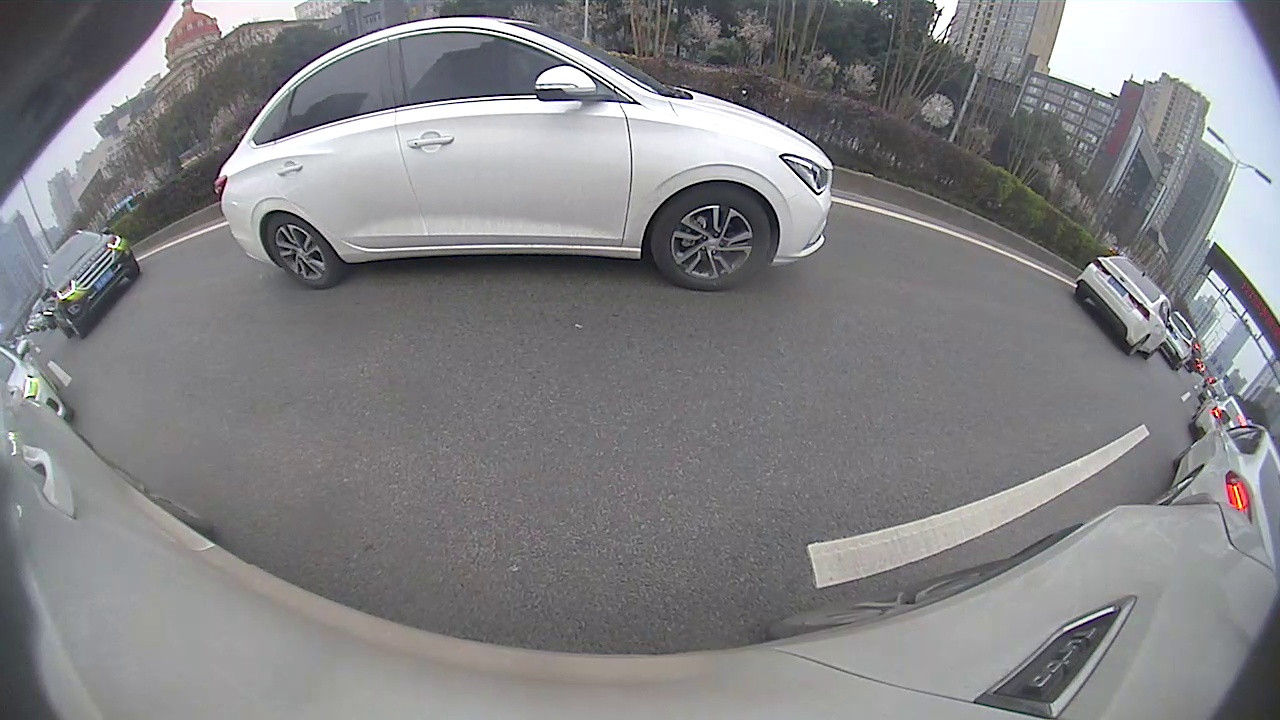car: (211, 15, 836, 295), (1150, 409, 1276, 553), (41, 229, 141, 342), (1075, 253, 1175, 360)
front: (653, 188, 774, 291)
rear: (262, 212, 339, 290), (1128, 334, 1148, 357)
